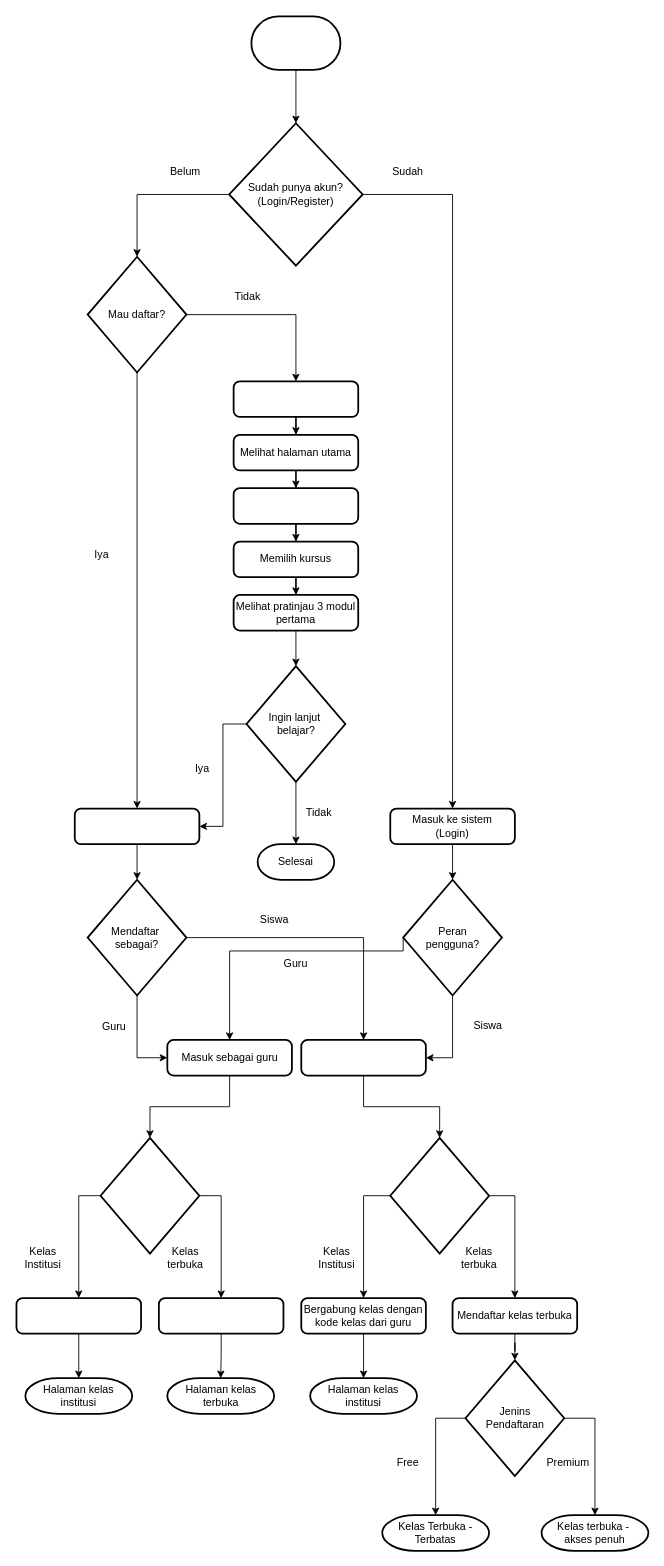
This 664x1566 diagram has some shape labels left out. The shapes that lost their labels are listed below. From the top down, each one's centre as x and y in pixels, then its label:
(295,42): Mulai
(295,398): Menjelajahi halaman sebagai guest
(295,505): Melihat katalog kelas terbuka
(136,826): Mendaftar akun baru (Register)
(363,1057): Masuk sebagai siswa
(149,1195): Guru memilih fitur
(439,1195): Siswa memilih fitur
(78,1315): Membuat / mengelola kelas
(221,1315): Membuat kelas terbuka
